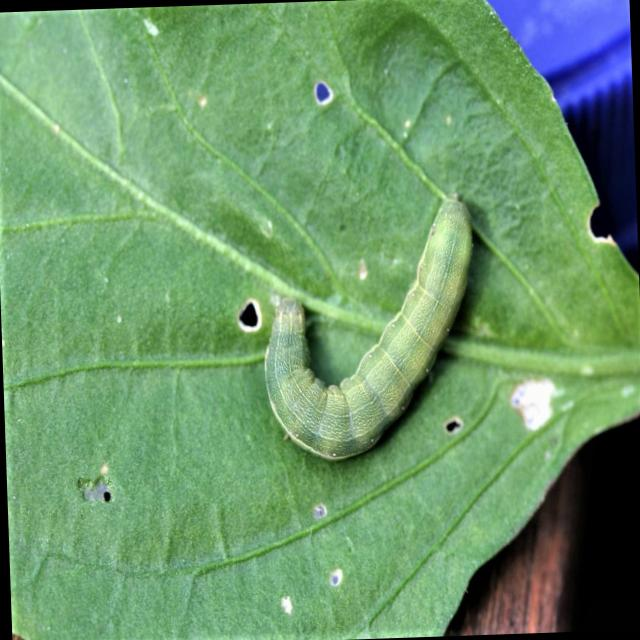Armyworm: (246, 184, 495, 458)
Armyworm_damage: (65, 448, 123, 533), (222, 278, 262, 341), (434, 405, 475, 444)
